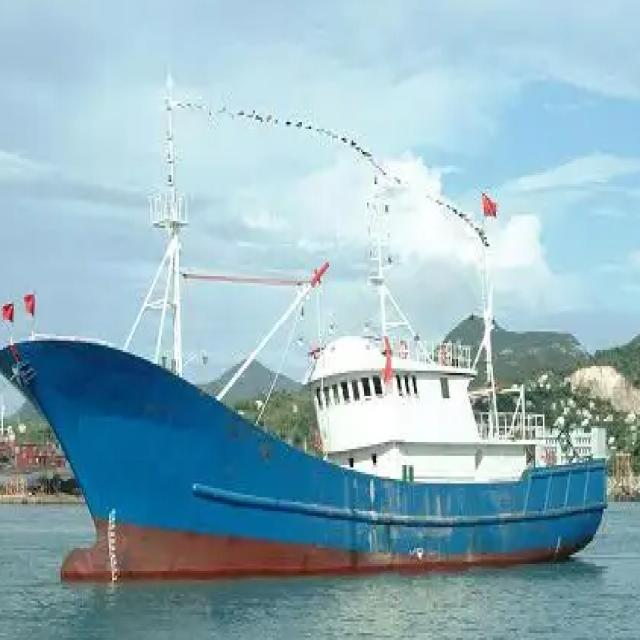fishing boat: (1, 111, 609, 585)
